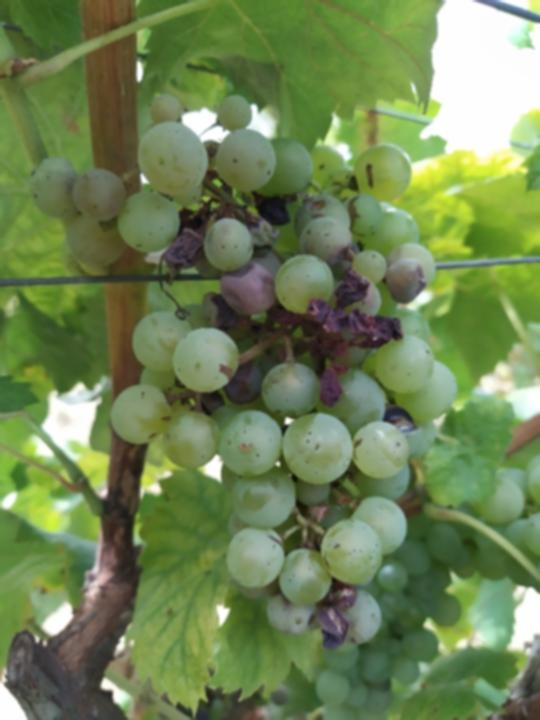grape: (28, 91, 460, 653)
